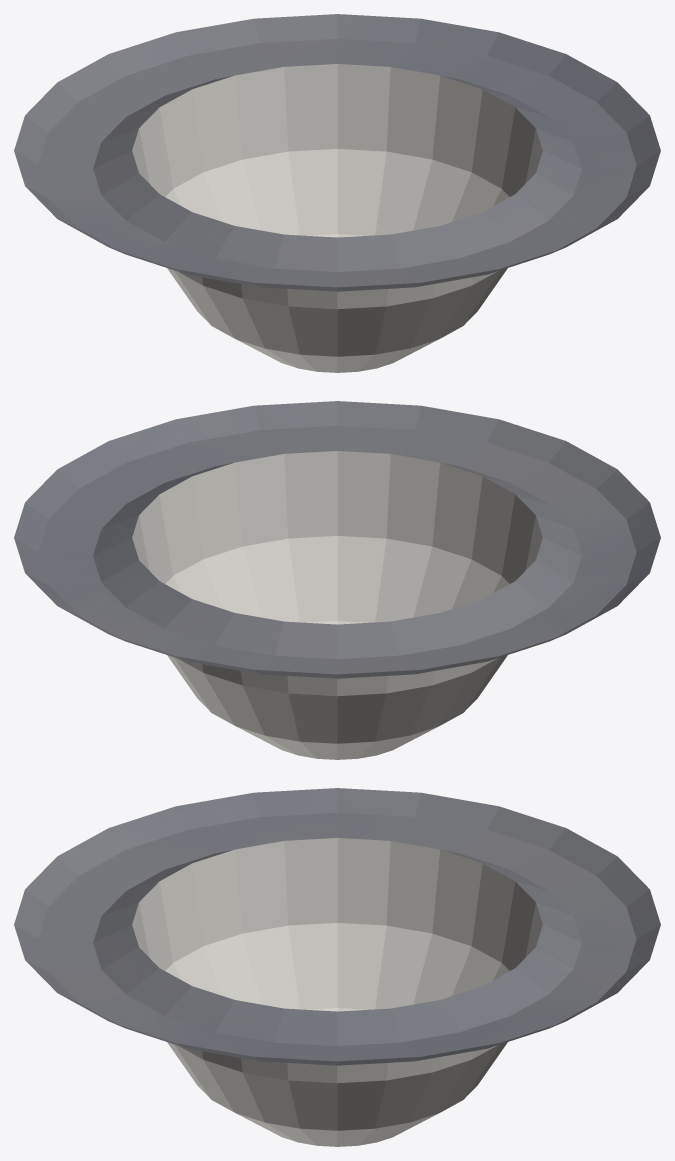
File: Lampe.fbx
3 views of the same model, one above another, from view 1: azimuth 30°, elevation 25°; view 2: azimuth 150°, elevation 25°; view 3: azimuth 270°, elevation 25° (orthographic).
Visible parts, largest first — view 1: Sphere; view 2: Sphere; view 3: Sphere.
Part boxes in pixels (bbox=[...]): Sphere: bbox=[14, 14, 660, 372]; Sphere: bbox=[14, 401, 660, 759]; Sphere: bbox=[14, 788, 660, 1146].
Bounding box in the file's own units: 60 × 20.93 × 60.
